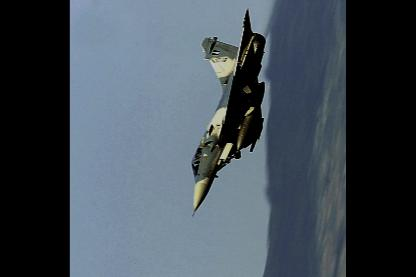Mirage2000: (191, 6, 266, 215)
